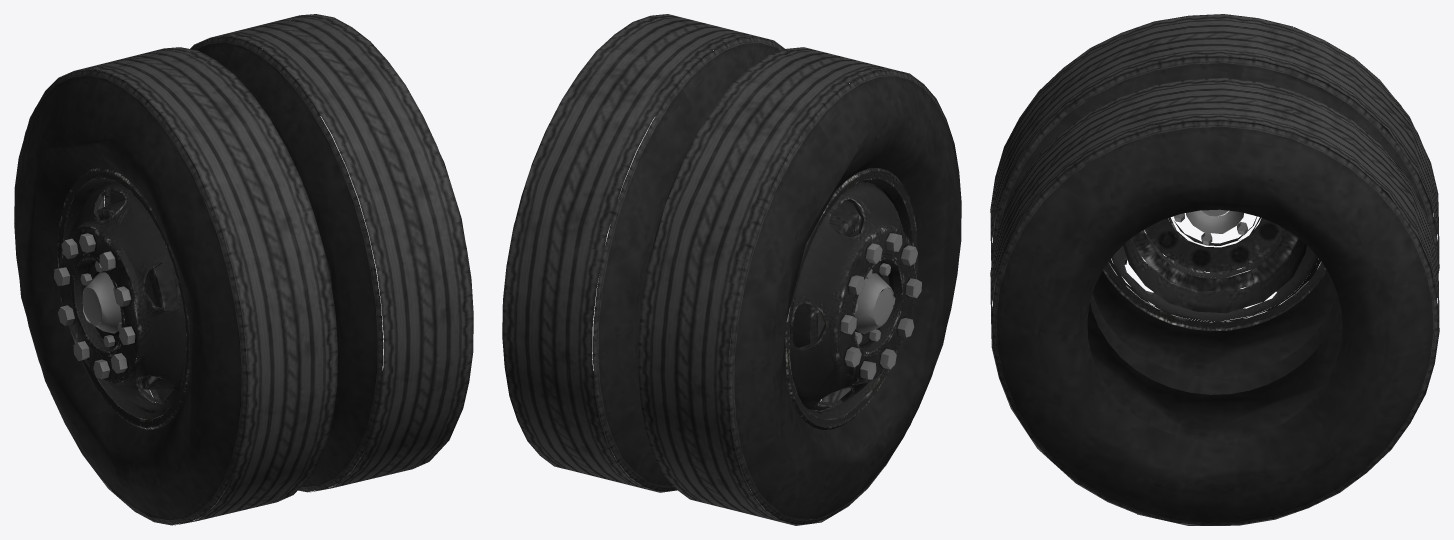
The model's file is tm_wheel_a0_L.glb.
The picture shows the model from 3 angles, left to right: view 1: azimuth 30°, elevation 25°; view 2: azimuth 150°, elevation 25°; view 3: azimuth 270°, elevation 25°; orthographic projection. The views are drawn at different scales.
Parts seen in each view (by area): view 1: wheel_(0, 0); view 2: wheel_(0, 0); view 3: wheel_(0, 0).
Part boxes in pixels (x1,y1,x2,y2): wheel_(0, 0): (14,14,473,525); wheel_(0, 0): (502,14,961,525); wheel_(0, 0): (990,14,1439,525).
Size of the model in its own units: 63.95 by 90.33 by 90.33.
Materials: 1 (1 with a texture image).
